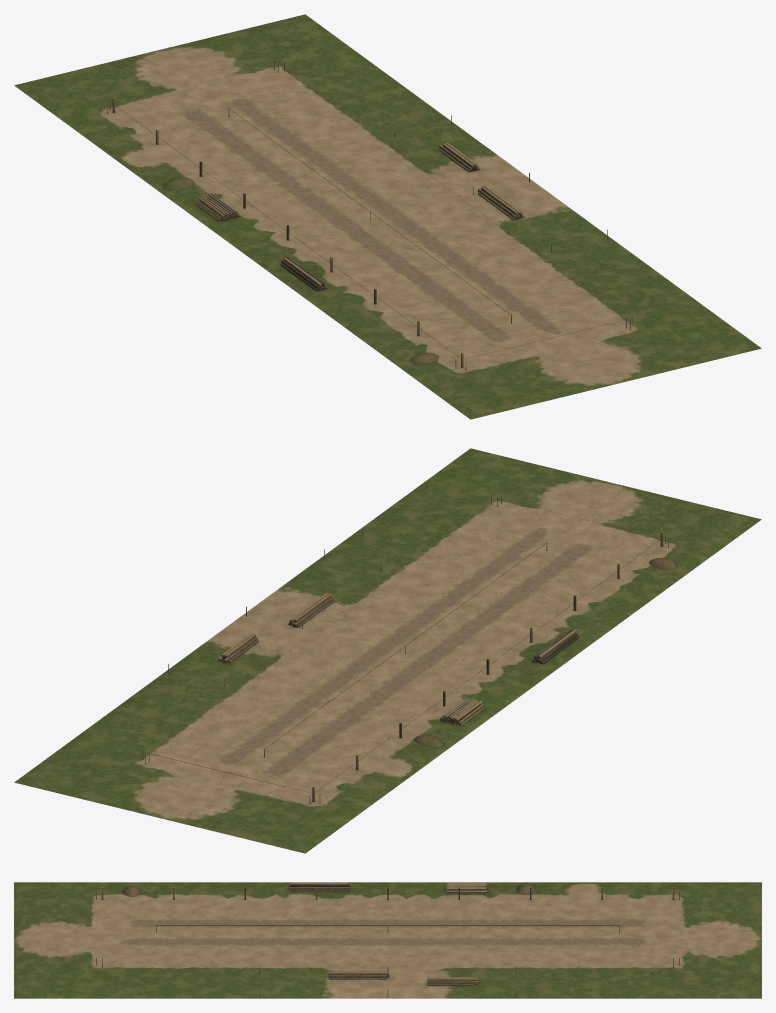
Rendered from lists_build1.glb.
The picture shows the model from 3 angles, top to bottom: view 1: azimuth 30°, elevation 25°; view 2: azimuth 150°, elevation 25°; view 3: azimuth 270°, elevation 25°; orthographic projection. The views are drawn at different scales.
Parts seen in each view (by area): view 1: lists_build1_LOD0; view 2: lists_build1_LOD0; view 3: lists_build1_LOD0.
Part boxes in pixels (x1,y1,x2,y2): lists_build1_LOD0: [14, 14, 761, 419]; lists_build1_LOD0: [14, 448, 761, 853]; lists_build1_LOD0: [14, 882, 761, 998].
Size of what is drawn, in the model's own units: 28 by 1.45 by 76.
Materials: 1 (1 with a texture image).
